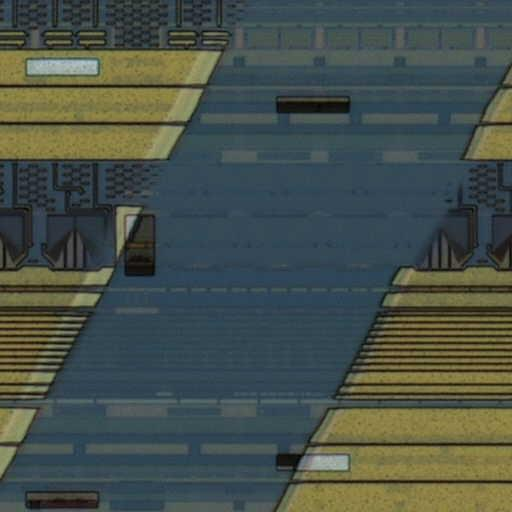COATING BAD: (1, 1, 512, 512)
